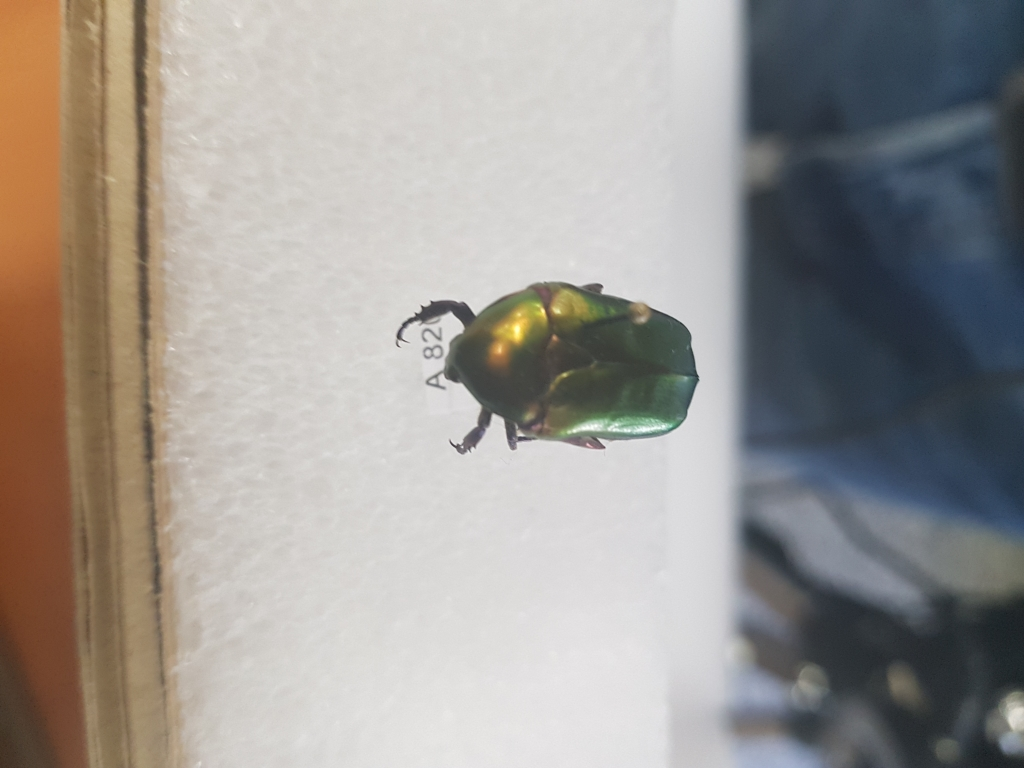Protaetia_cuprea_ignicollis: (395, 274, 740, 458)
